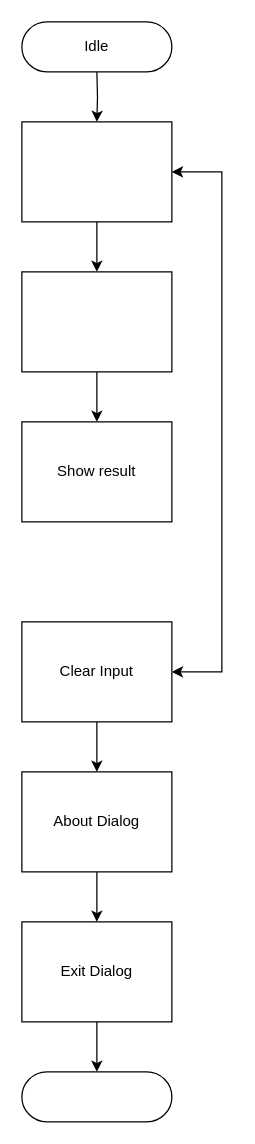
Image size: 255x1144. Some labels were removed from this diagram. Each missing label, with the centre of its shape:
"Check Full Name" goes at point 96,321.
"Drawer Opened" goes at point 96,171.
"Exit" goes at point 96,1096.
